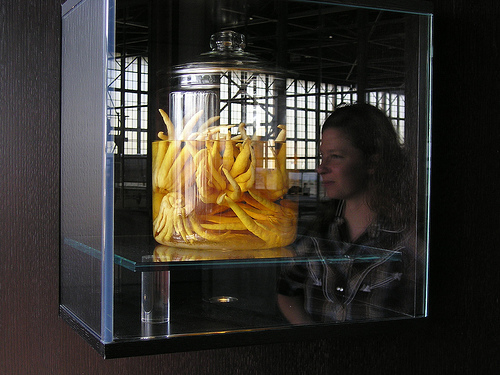without_mask: (316, 120, 387, 208)
